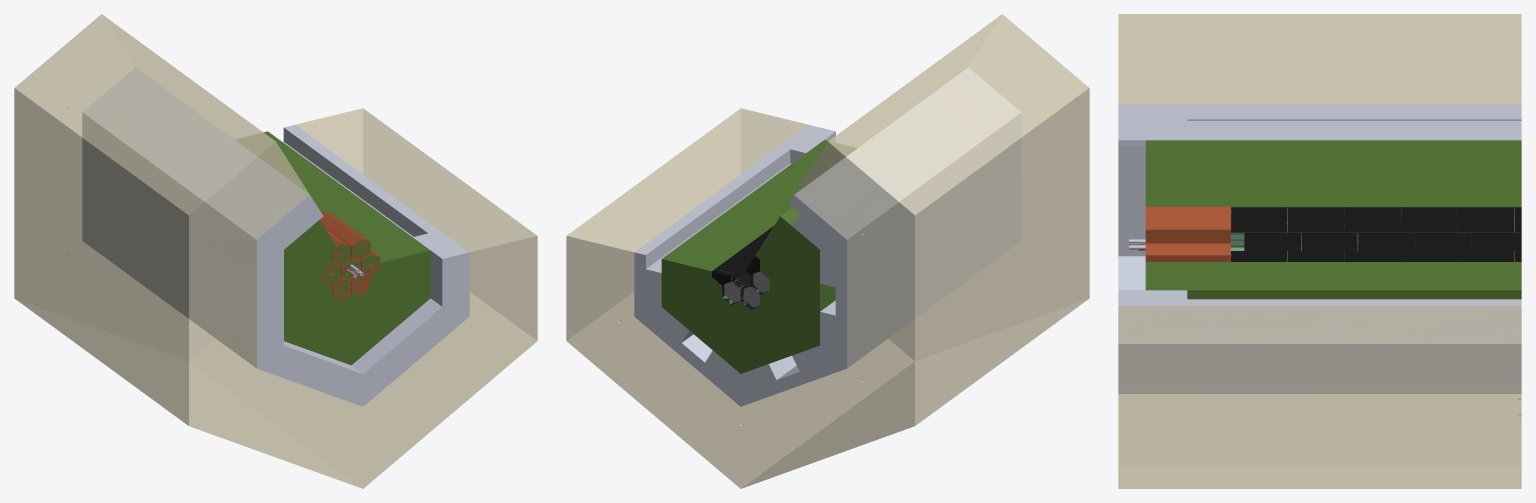
Rendered from StarCore lower core 2 Part Lower Core - Top.obj.
The picture shows the model from 3 angles, left to right: view 1: azimuth 30°, elevation 25°; view 2: azimuth 150°, elevation 25°; view 3: azimuth 270°, elevation 25°; orthographic projection. The views are drawn at different scales.
Parts seen in each view (by area): view 1: OuterShell_Top, CavityLiner_Top, TopReflector_Top, SideReflector_Top, UpperReflectorPlug_Top, OuterPlenumShell2_Top, OuterPlenumInsert2_Top; view 2: OuterShell_Top, CavityLiner_Top, SideReflector_Top, FuelBundles_Top, TopReflector_Top, FuelSeams_Top; view 3: OuterShell_Top, CavityLiner_Top, SideReflector_Top, FuelBundles_Top, TopReflector_Top, OuterPlenumShell2_Top, OuterPlenumInsert2_Top, OuterPlenumShell1_Top, OuterPlenumInsert1_Top, OuterPlenumShell3_Top, OuterPlenumInsert3_Top.
Boxes of the visible parts, x1,y1,x2,y2 form: OuterShell_Top: [14, 14, 537, 488]; CavityLiner_Top: [82, 67, 469, 406]; TopReflector_Top: [284, 220, 430, 365]; SideReflector_Top: [236, 131, 412, 246]; UpperReflectorPlug_Top: [322, 247, 380, 300]; OuterPlenumShell2_Top: [319, 211, 370, 261]; OuterPlenumInsert2_Top: [320, 213, 369, 260]; OuterShell_Top: [566, 14, 1089, 488]; CavityLiner_Top: [634, 67, 1021, 406]; SideReflector_Top: [661, 153, 835, 373]; FuelBundles_Top: [712, 225, 774, 309]; TopReflector_Top: [789, 140, 856, 173]; FuelSeams_Top: [717, 269, 769, 307]; OuterShell_Top: [1118, 14, 1521, 488]; CavityLiner_Top: [1118, 104, 1521, 393]; SideReflector_Top: [1187, 140, 1521, 299]; FuelBundles_Top: [1231, 207, 1521, 261]; TopReflector_Top: [1145, 140, 1230, 299]; OuterPlenumShell2_Top: [1145, 217, 1230, 243]; OuterPlenumInsert2_Top: [1146, 219, 1229, 242]; OuterPlenumShell1_Top: [1145, 243, 1230, 261]; OuterPlenumInsert1_Top: [1146, 245, 1229, 260]; OuterPlenumShell3_Top: [1145, 206, 1230, 217]; OuterPlenumInsert3_Top: [1146, 208, 1229, 216].
Size of the model in its own units: 815 by 823 by 706.
